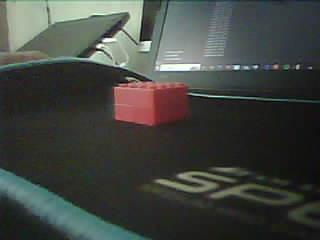lego: (113, 79, 189, 127)
